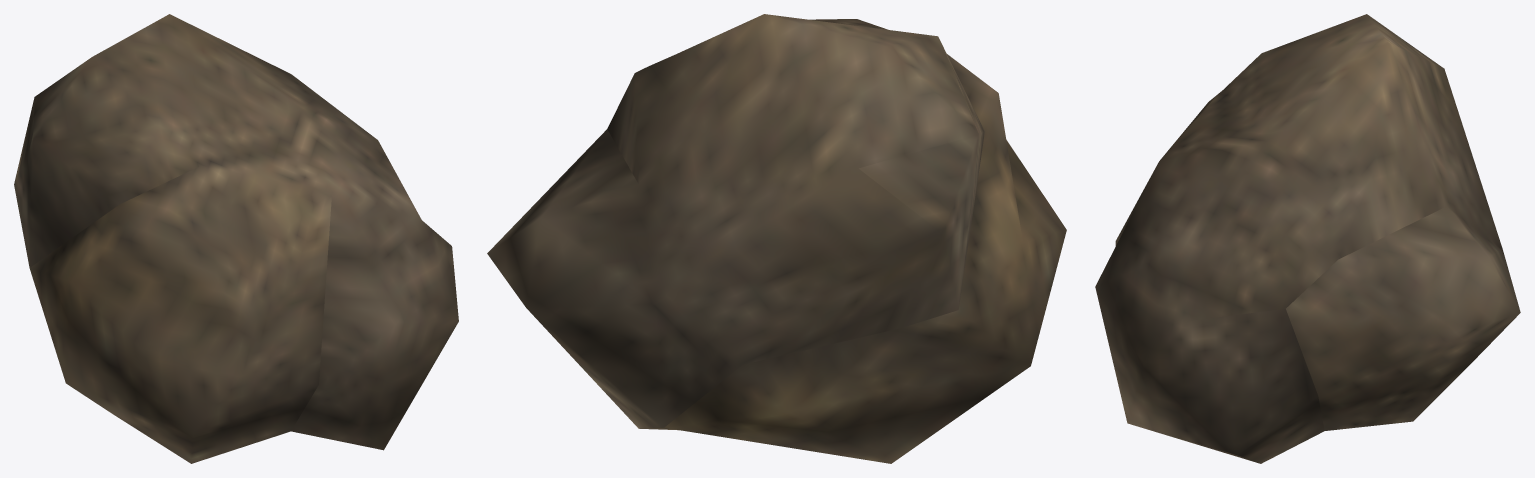
The model's file is Rock01_01.FBX.
3 renders of one model, left to right at view 1: azimuth 30°, elevation 25°; view 2: azimuth 150°, elevation 25°; view 3: azimuth 270°, elevation 25°, orthographic. The views are drawn at different scales.
Visible parts, largest first — view 1: Rock01_01; view 2: Rock01_01; view 3: Rock01_01.
Part boxes in pixels (<box>): Rock01_01: <box>14,14,458,463</box>; Rock01_01: <box>487,14,1066,463</box>; Rock01_01: <box>1095,14,1520,463</box>.
Bounding box in the file's own units: 401 × 420 × 446.
Materials: 1 (1 with a texture image).
